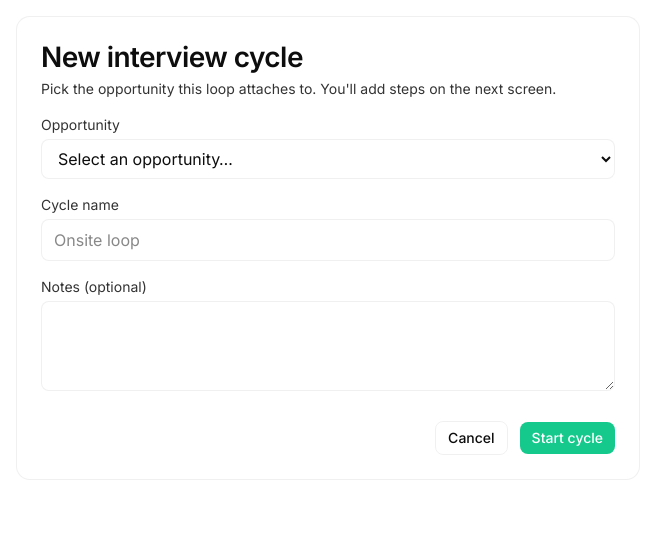
Test: InterviewCycleCreate › shows API error on submit failure
Select "Staff Eng — Acme" in the dropdown with test id "interview-cycle-create-opportunity" at (328, 159), box [41,139,615,179]
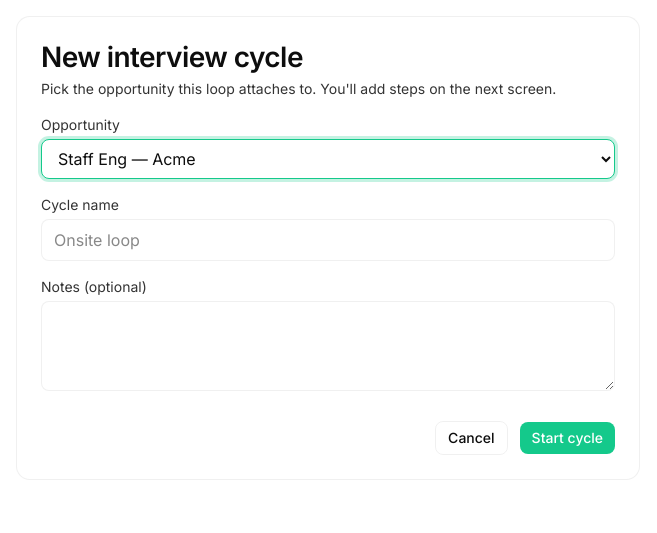
Type "x" into the field with test id "interview-cycle-create-name" at (328, 240), box [41,219,615,261]
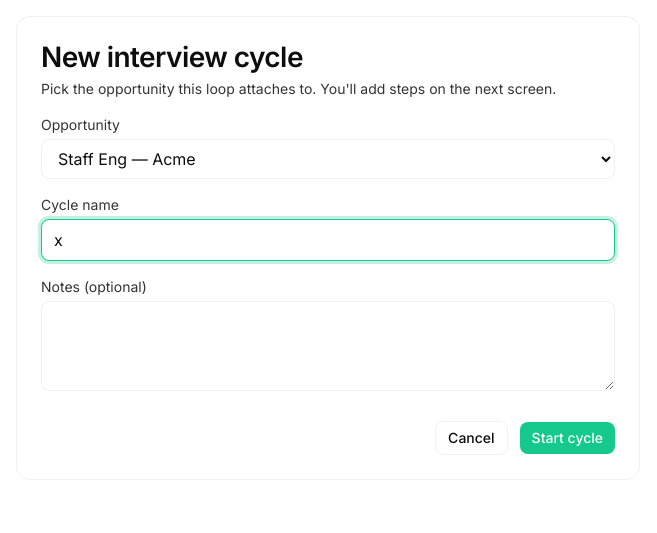
Submit the form with test id "interview-cycle-create-form"
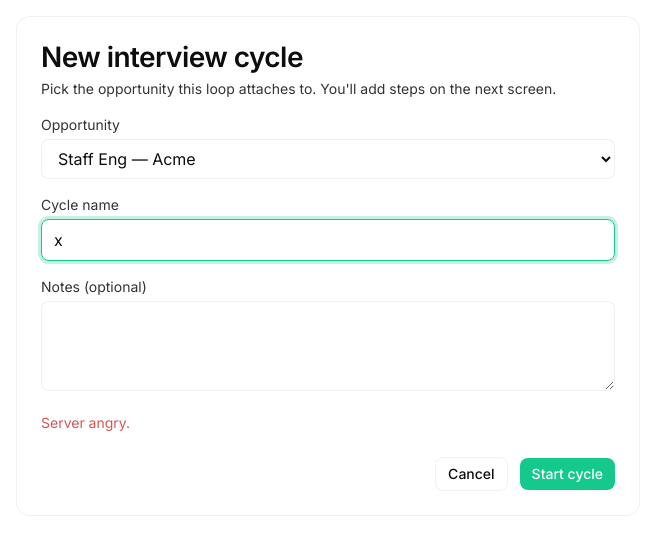
Now the message with test id "interview-cycle-create-error" shows "Server angry", box [41,414,130,431]
